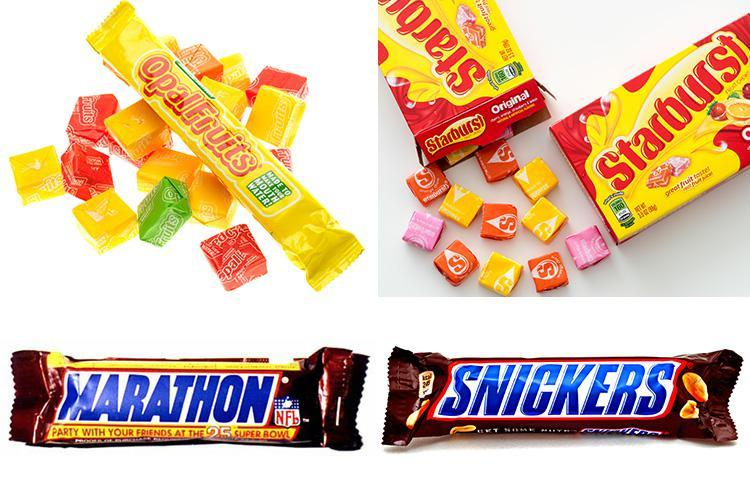snickers: (436, 363, 677, 416), (54, 372, 275, 421), (54, 375, 275, 421)
